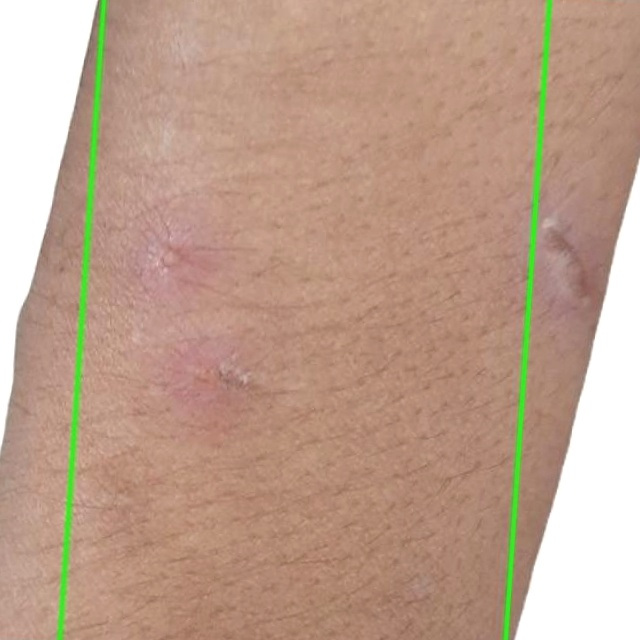Scabies: (506, 0, 639, 639), (0, 0, 104, 639)
